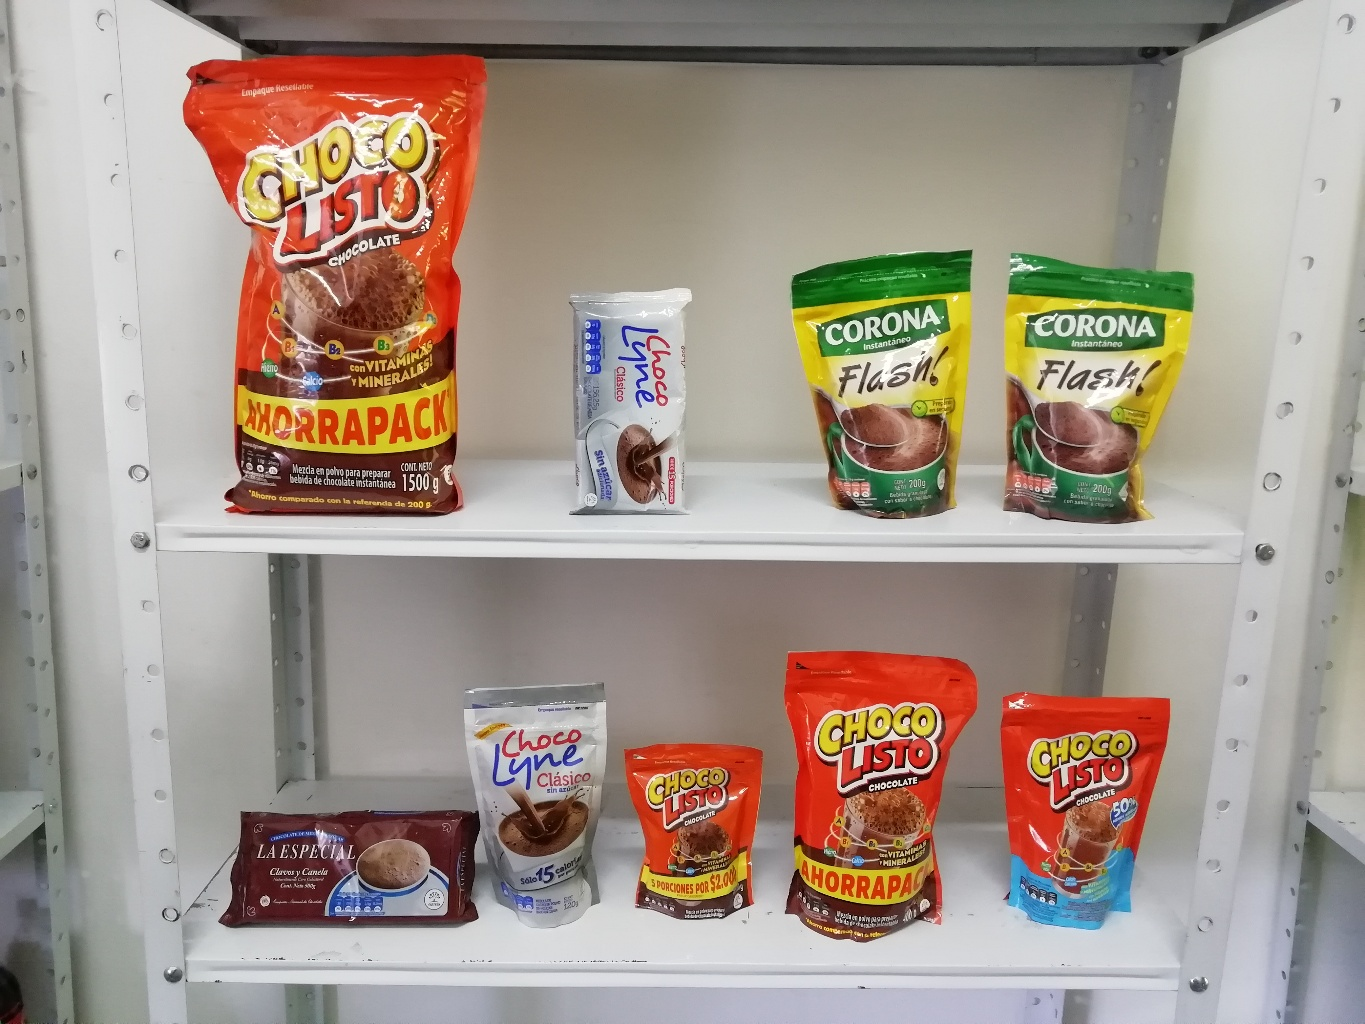COL0170103DYP1,500: (189, 32, 499, 518)
COL0170103DYP10000: (631, 733, 764, 916)
COL0170103DYP40000: (771, 654, 989, 934)
COL0170104DYP20000: (1001, 686, 1178, 948)
